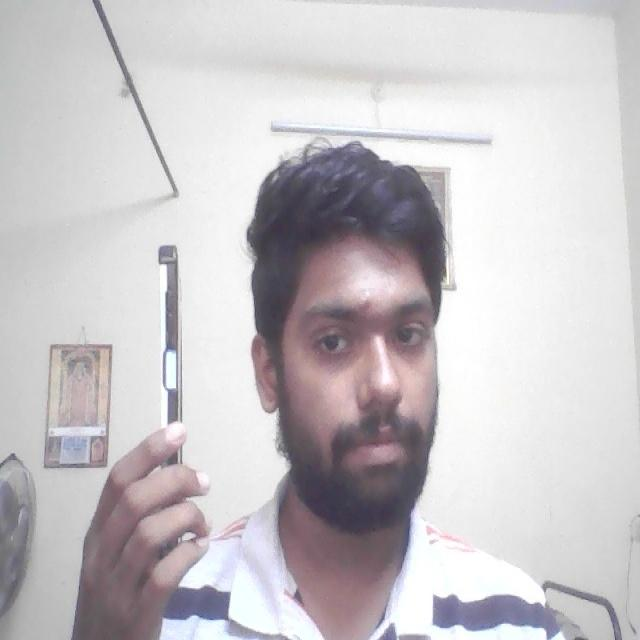Mobile: (152, 233, 186, 464)
